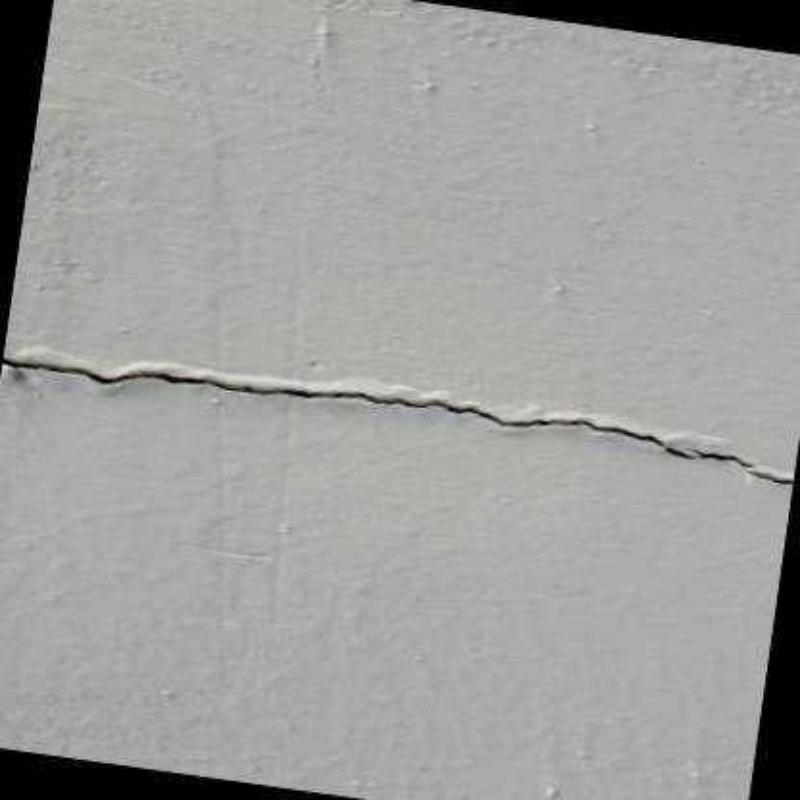crack: (1, 346, 794, 487)
